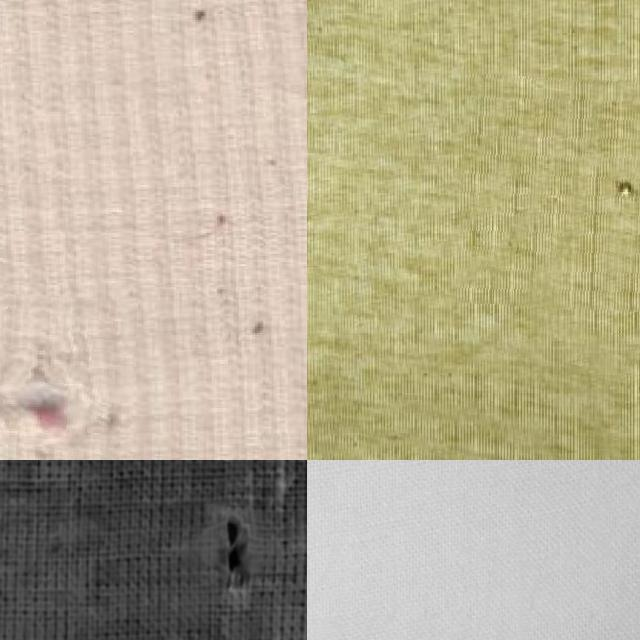other: (457, 77, 640, 315), (146, 485, 295, 640), (0, 293, 135, 460)
